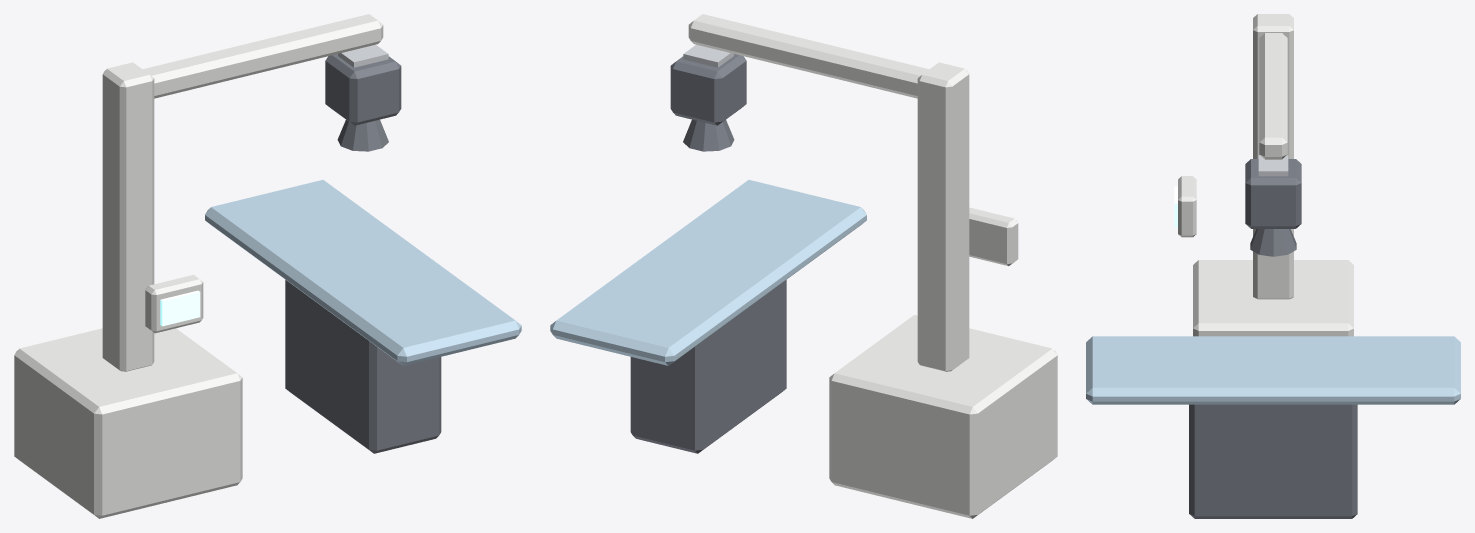
File: medical-23606.glb
The picture shows the model from 3 angles, left to right: view 1: azimuth 30°, elevation 25°; view 2: azimuth 150°, elevation 25°; view 3: azimuth 270°, elevation 25°; orthographic projection. The views are drawn at different scales.
Visible parts, largest first — view 1: xray-unit-with-table; view 2: xray-unit-with-table; view 3: xray-unit-with-table.
Boxes of the visible parts, left/top/right/bottom form: xray-unit-with-table: left=14, top=14, right=521, bottom=518; xray-unit-with-table: left=550, top=14, right=1057, bottom=518; xray-unit-with-table: left=1086, top=14, right=1460, bottom=518.
Bounding box in the file's own units: 2.15 × 2.22 × 2.
